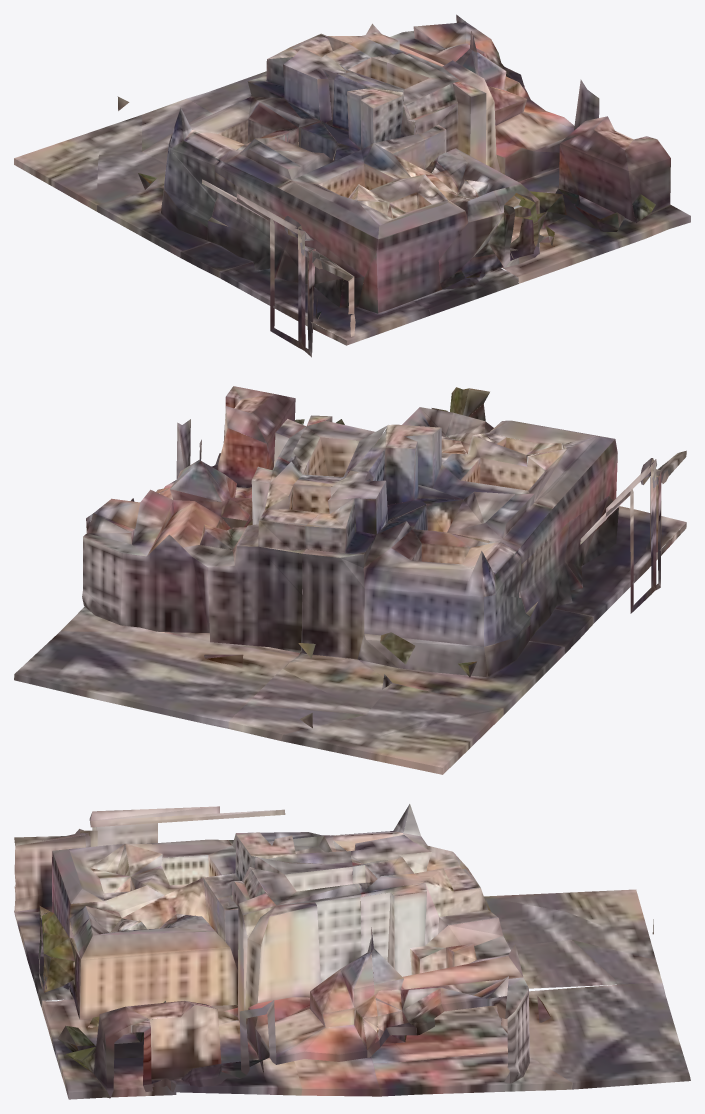
The picture shows the model from 3 angles, top to bottom: view 1: azimuth 30°, elevation 25°; view 2: azimuth 150°, elevation 25°; view 3: azimuth 270°, elevation 25°; orthographic projection. The views are drawn at different scales.
Visible parts, largest first — view 1: Mesh_0; view 2: Mesh_0; view 3: Mesh_0.
Boxes of the visible parts, x1,y1,x2,y2 form: Mesh_0: (14, 14, 690, 357); Mesh_0: (14, 386, 686, 774); Mesh_0: (14, 804, 690, 1099).
Bounding box in the file's own units: 133 × 50.32 × 165.
Materials: 2 (2 with a texture image).
